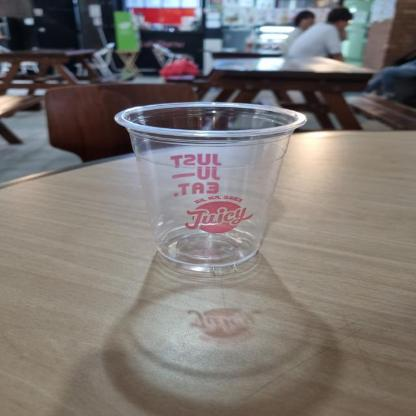Plastic Cup: (114, 96, 310, 278)
